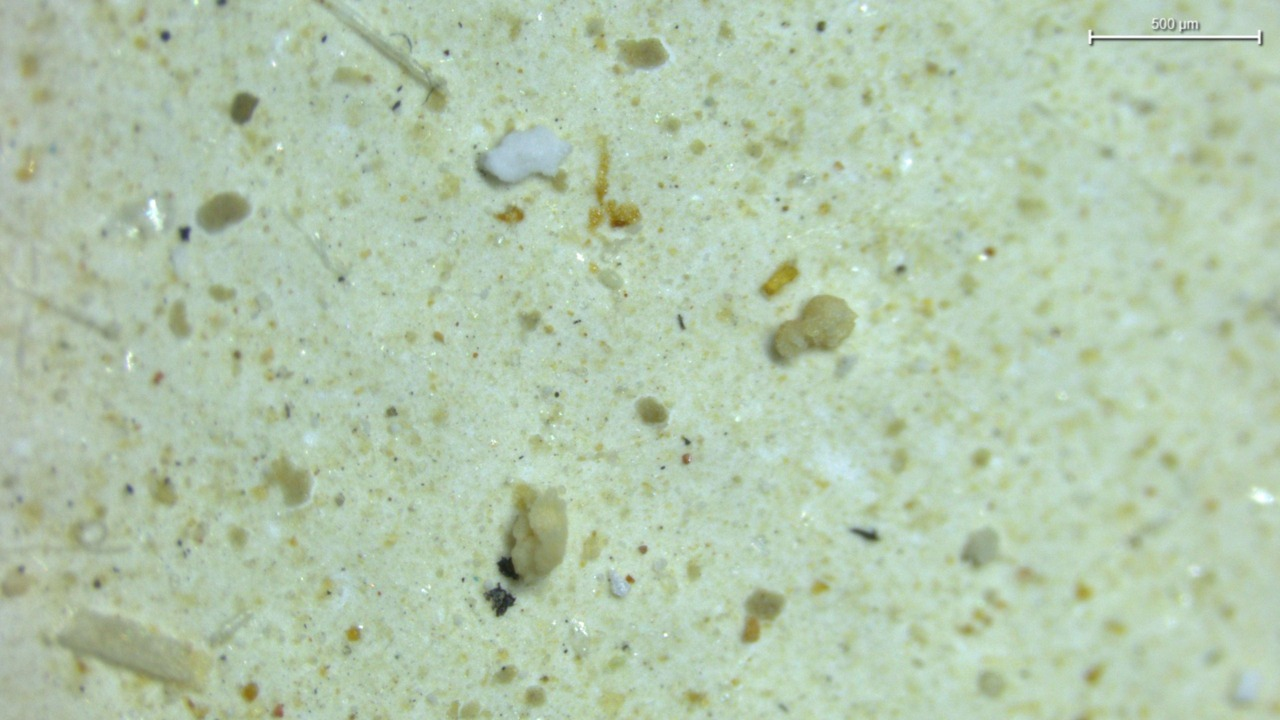microplastic_fragment: (503, 485, 567, 582), (477, 126, 571, 184), (773, 295, 857, 359)
